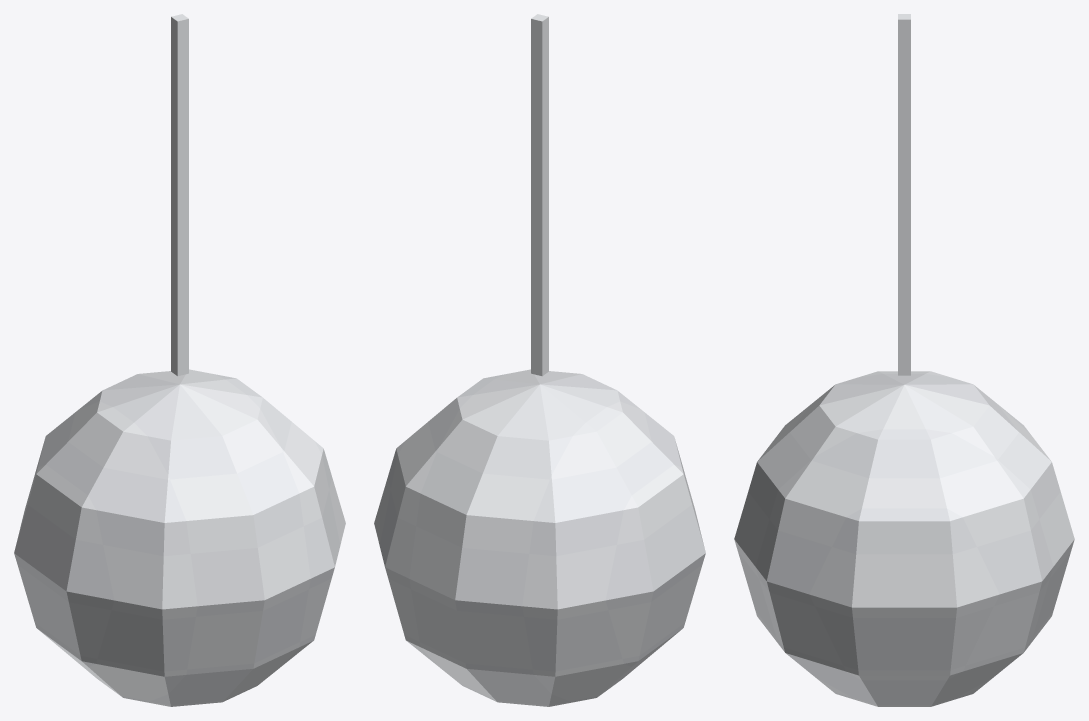
File: DiscoBall.fbx
3 views of the same model, side by side, from view 1: azimuth 30°, elevation 25°; view 2: azimuth 150°, elevation 25°; view 3: azimuth 270°, elevation 25° (orthographic).
Parts seen in each view (by area): view 1: DiscoBall; view 2: DiscoBall; view 3: DiscoBall.
Boxes of the visible parts, x1,y1,x2,y2 form: DiscoBall: (14, 14, 345, 706); DiscoBall: (374, 14, 705, 706); DiscoBall: (734, 14, 1074, 706).
Size of the model in its own units: 2.47 by 5.7 by 2.6.
Materials: 1 (1 with a texture image).
